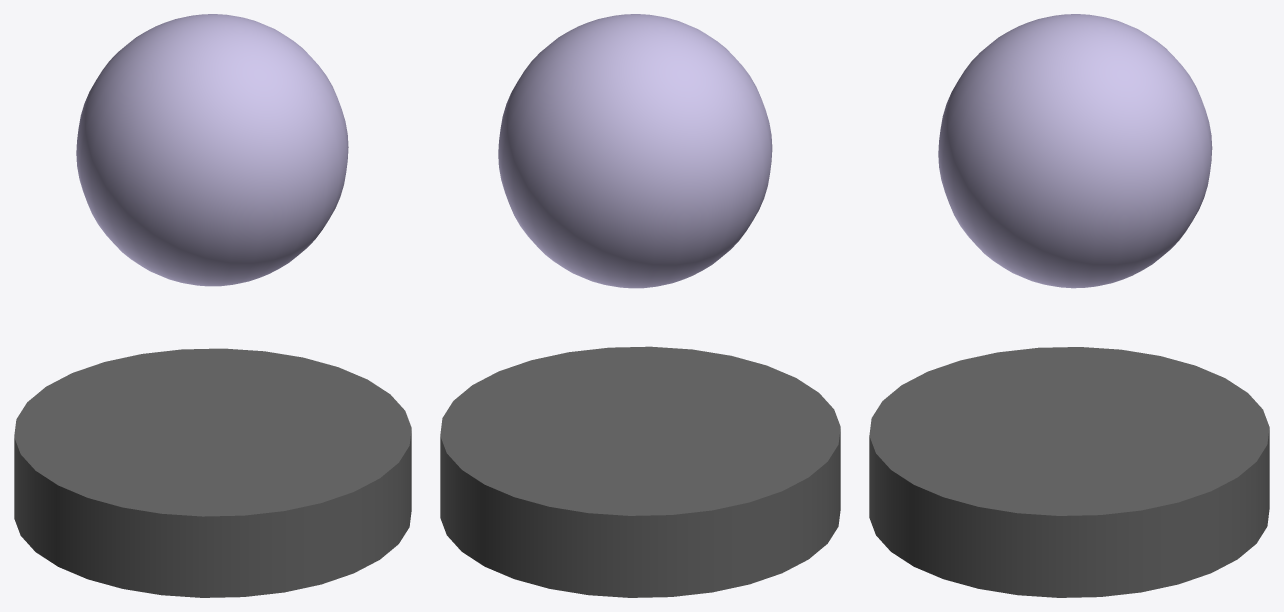
Rendered from sphViolet.glb.
3 views of the same model, side by side, from view 1: azimuth 30°, elevation 25°; view 2: azimuth 150°, elevation 25°; view 3: azimuth 270°, elevation 25° (orthographic).
Parts seen in each view (by area): view 1: 016_Cylinder_-_baked_7, 015_Sphere_2; view 2: 016_Cylinder_-_baked_7, 015_Sphere_2; view 3: 016_Cylinder_-_baked_7, 015_Sphere_2.
Boxes of the visible parts, left/top/right/bottom form: 016_Cylinder_-_baked_7: left=14, top=348, right=411, bottom=597; 015_Sphere_2: left=76, top=14, right=348, bottom=286; 016_Cylinder_-_baked_7: left=440, top=346, right=840, bottom=597; 015_Sphere_2: left=498, top=14, right=772, bottom=288; 016_Cylinder_-_baked_7: left=869, top=347, right=1269, bottom=597; 015_Sphere_2: left=938, top=14, right=1212, bottom=288.
Size of the model in its own units: 17.32 by 23.29 by 17.32.
